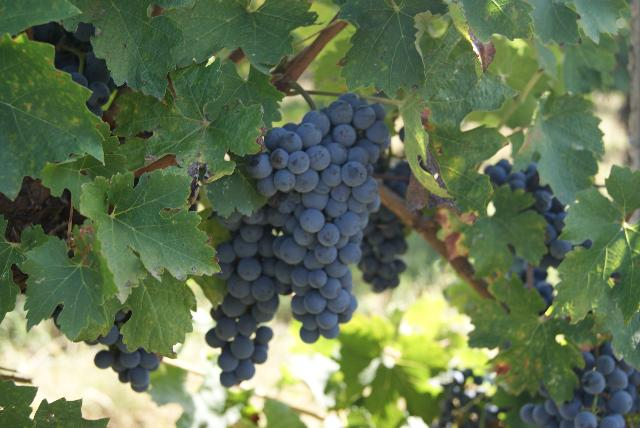grapes: (246, 92, 390, 342), (205, 212, 280, 388)
